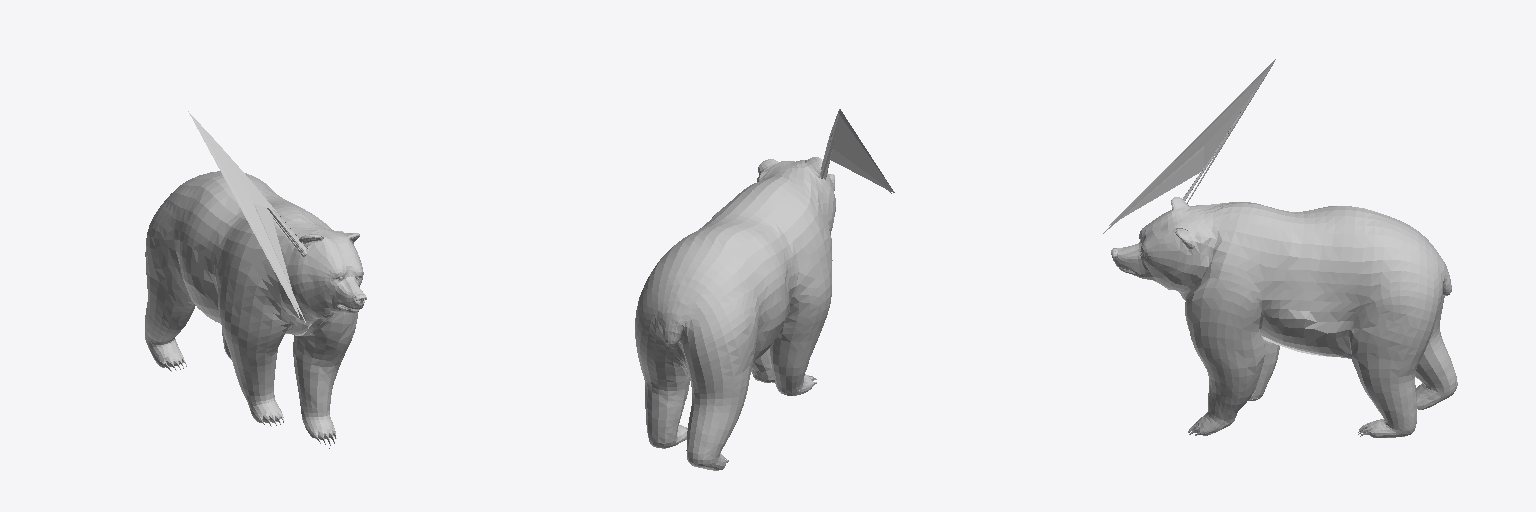
File: Bear0045.obj
The picture shows the model from 3 angles: view 1: azimuth 30°, elevation 25°; view 2: azimuth 150°, elevation 25°; view 3: azimuth 270°, elevation 25°; orthographic projection.
Parts seen in each view (by area): view 1: Object_237; view 2: Object_237; view 3: Object_237.
Boxes of the visible parts, x1,y1,x2,y2 form: Object_237: [145, 111, 366, 448]; Object_237: [635, 109, 894, 470]; Object_237: [1103, 59, 1457, 437].
Size of the model in its own units: 2.29 by 5.13 by 5.05.